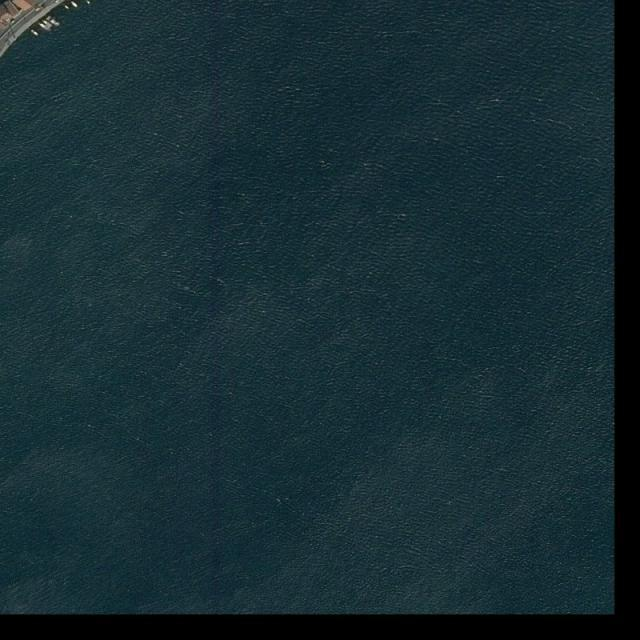ship: (46, 14, 62, 28), (37, 21, 54, 34), (41, 18, 54, 29), (30, 28, 41, 38), (70, 0, 80, 10), (62, 2, 70, 10), (85, 0, 92, 6)
